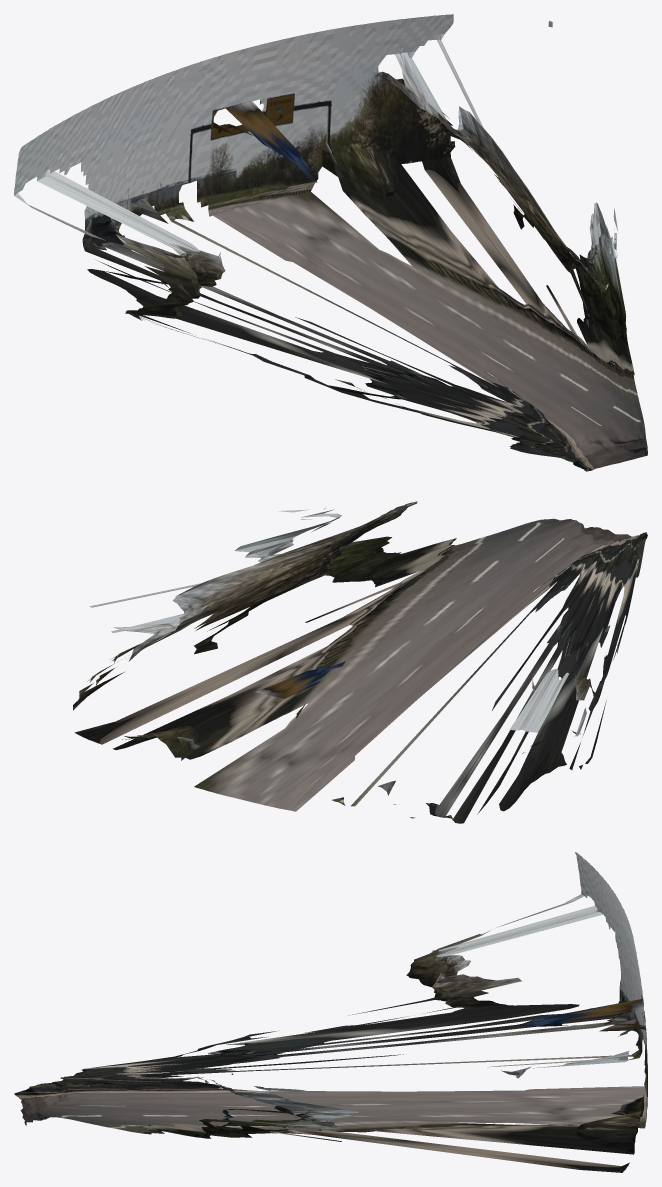
3 renders of one model, top to bottom at view 1: azimuth 30°, elevation 25°; view 2: azimuth 150°, elevation 25°; view 3: azimuth 270°, elevation 25°, orthographic. The views are drawn at different scales.
Parts seen in each view (by area): view 1: defaultobject; view 2: defaultobject; view 3: defaultobject.
Part boxes in pixels (x1,y1,x2,y2): defaultobject: (14, 14, 647, 471); defaultobject: (73, 501, 647, 823); defaultobject: (14, 852, 647, 1172).
Size of the model in its own units: 38.95 by 11.61 by 44.91.
1 material, 1 textured.
